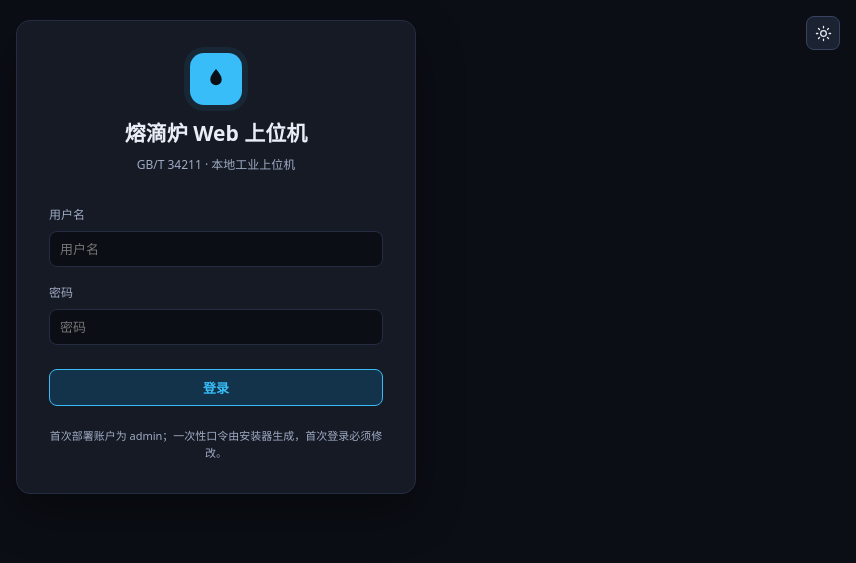
Test case: 认证失败时显示后端给出的业务消息
The width and height of the screenshot is (856, 563).
Type "admin" into the field with id "login-username". click: point(216, 249)
box: 49,231 -> 383,267
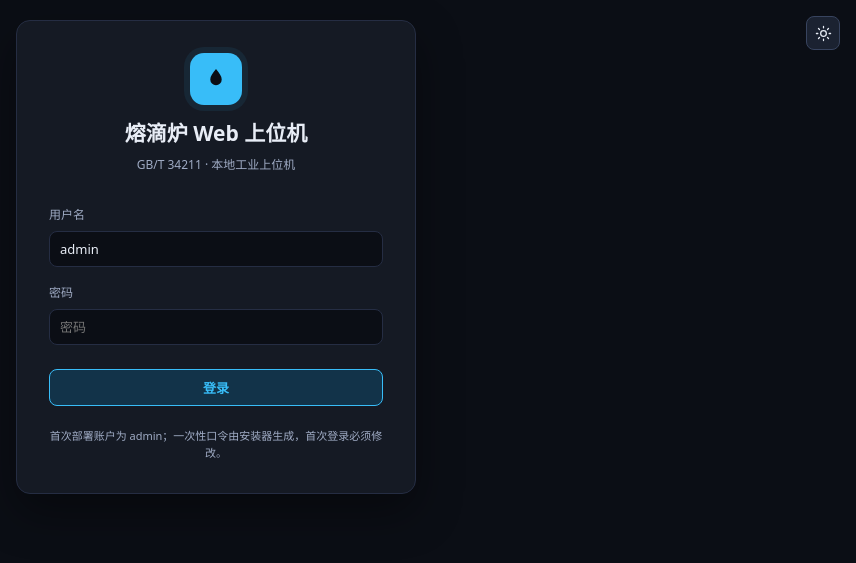
Type "whatever-password" into the password field with id "login-password". click: point(216, 327)
box: 49,309 -> 383,345
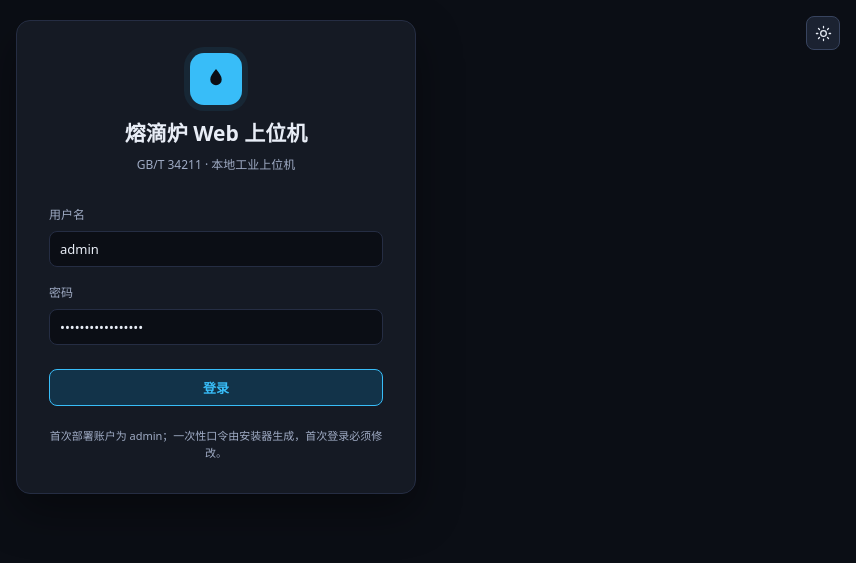
Submit the form, box 16,20 -> 416,494
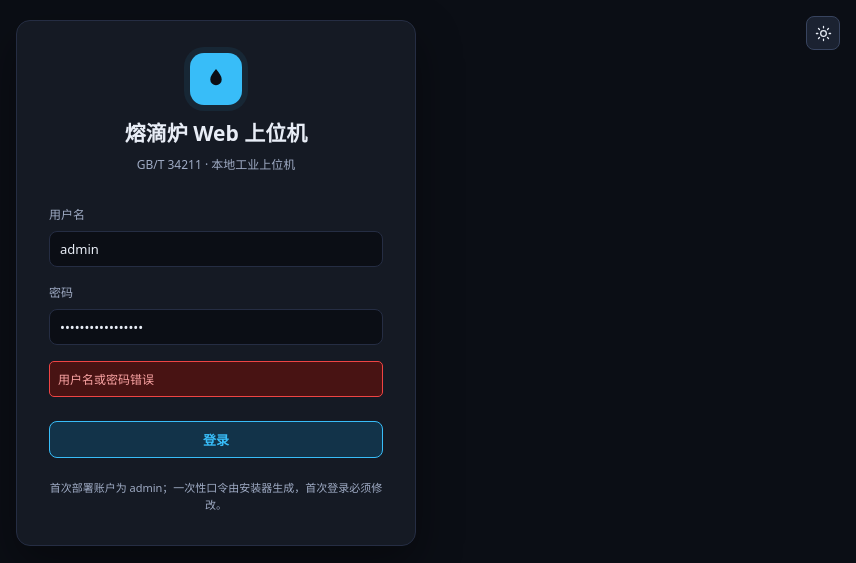
Expected: the text with class "login-error" reads "用户名或密码错误", 58,371 -> 154,388
